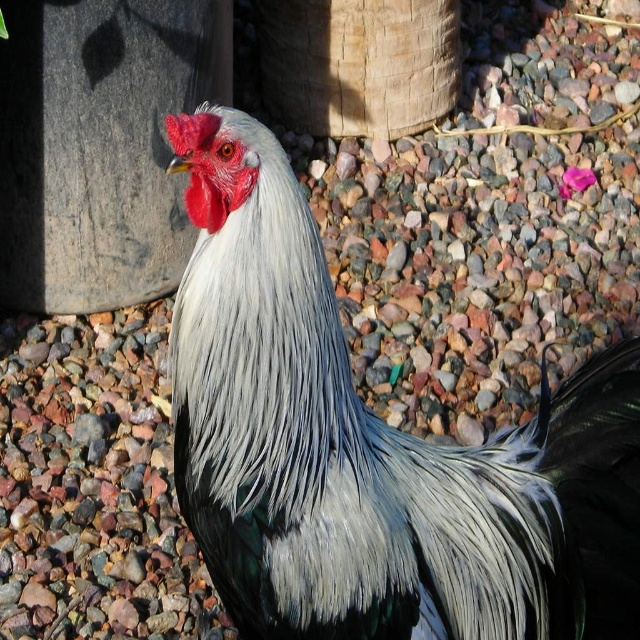Chicken: (163, 94, 618, 618)
